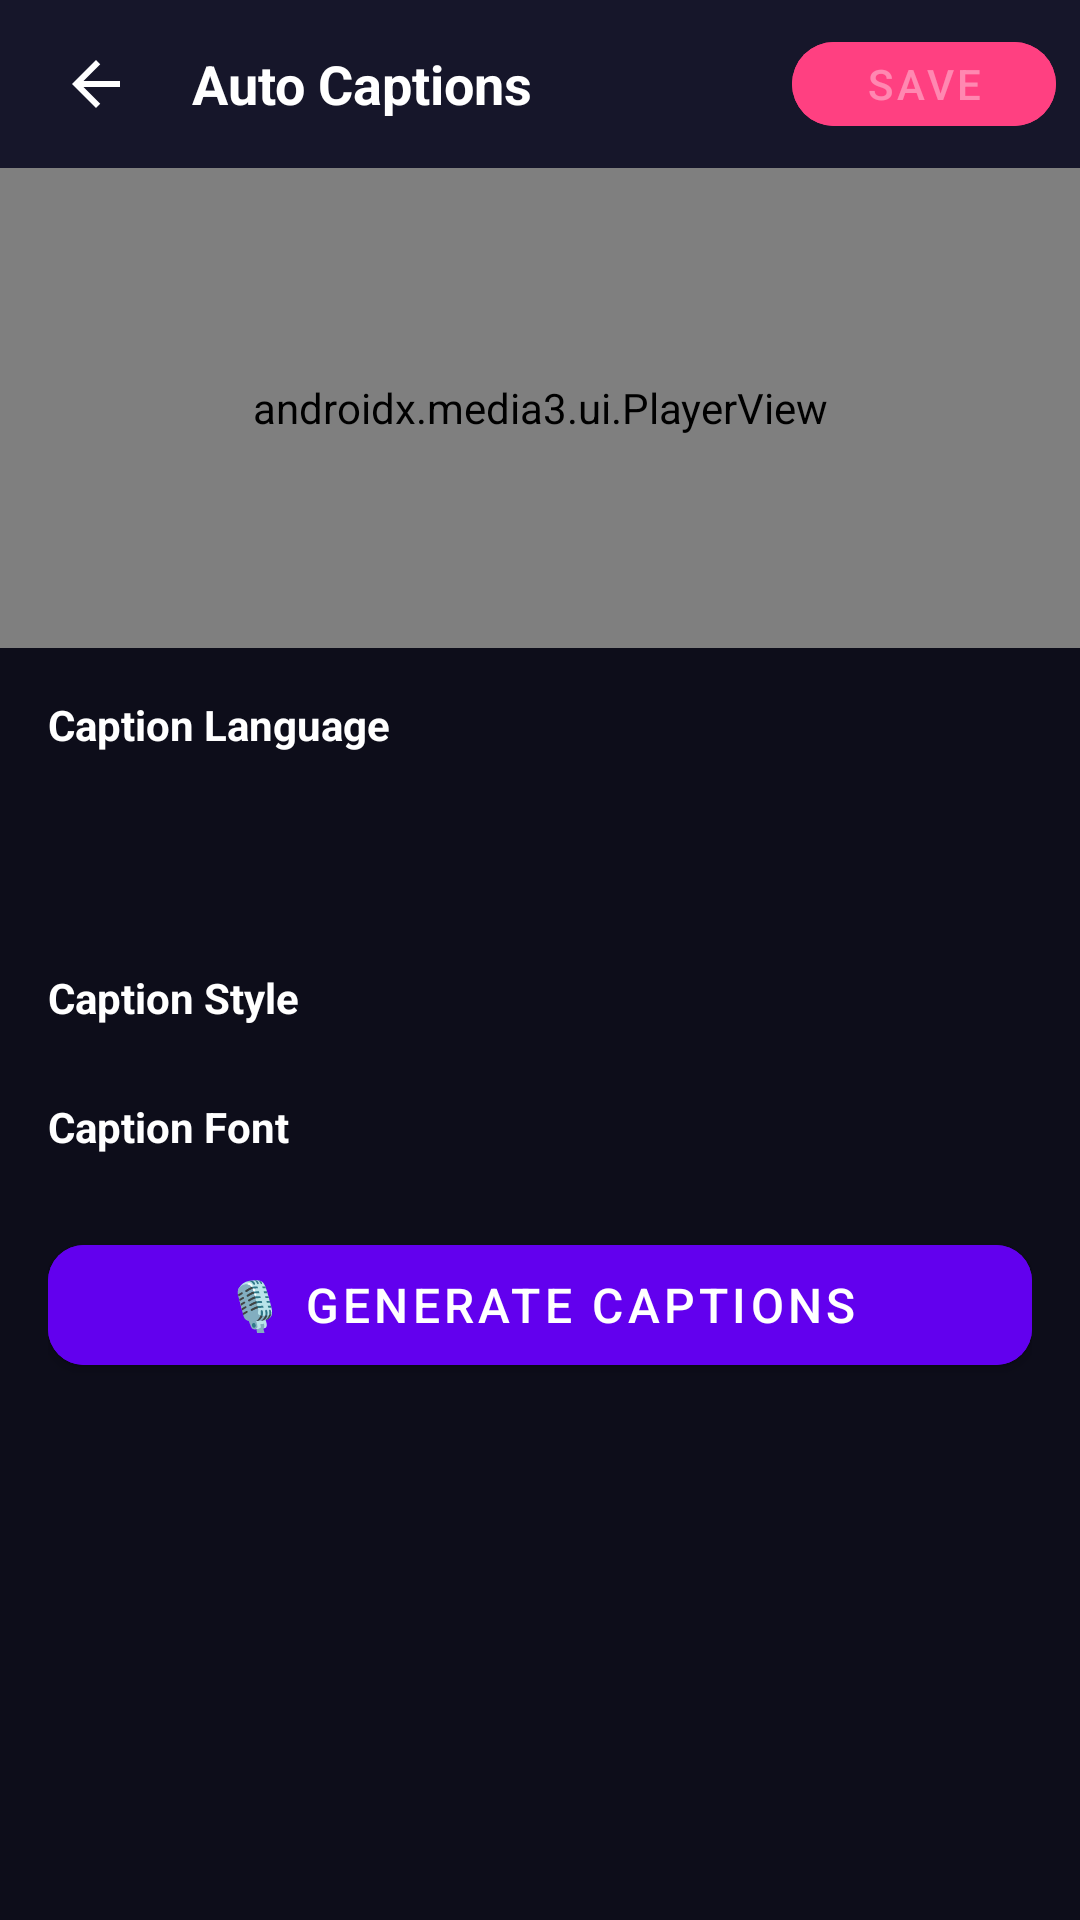

Icon click points for this 1080w x 1920h phone screenshot, format (x,y):
arrow back: (96,84)
